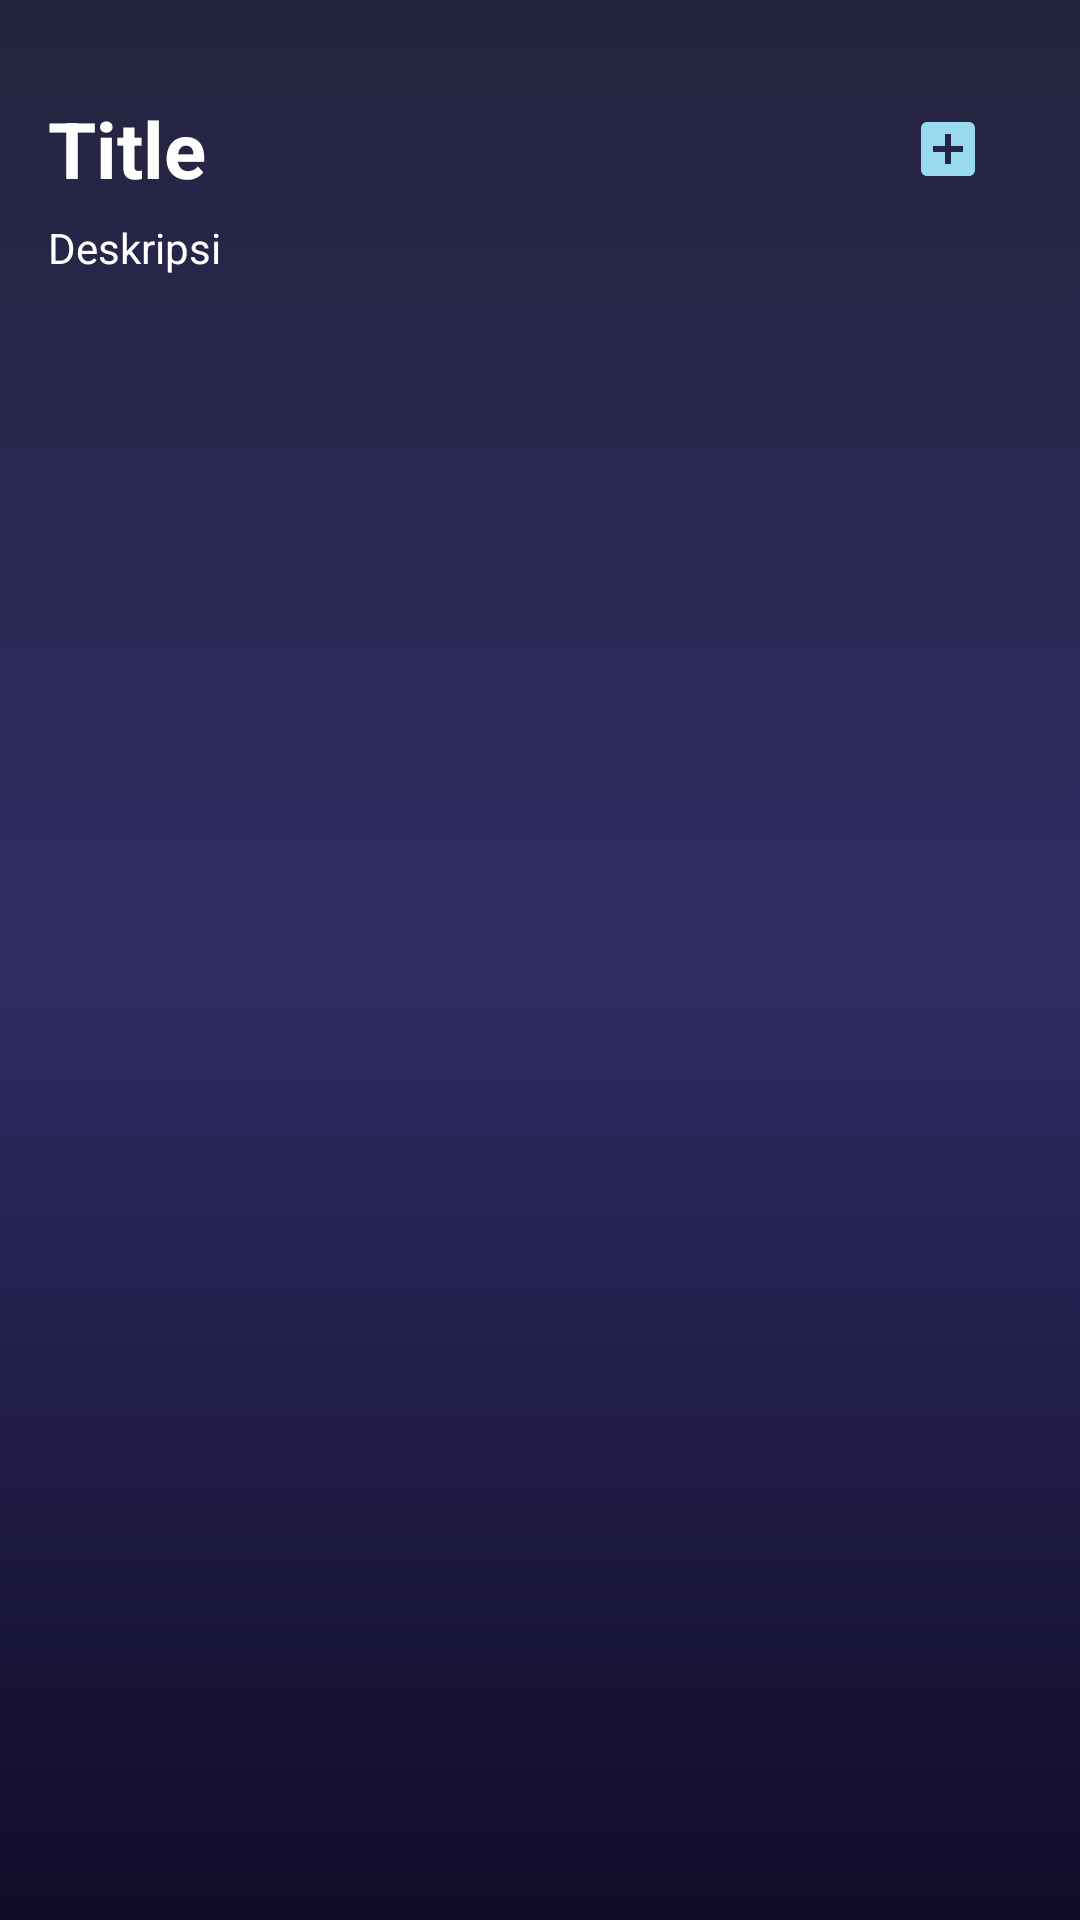

Icons on this 1080 x 1920 Android screen, each with the point to tap as (x=x, y=y):
add: (x=948, y=149)
